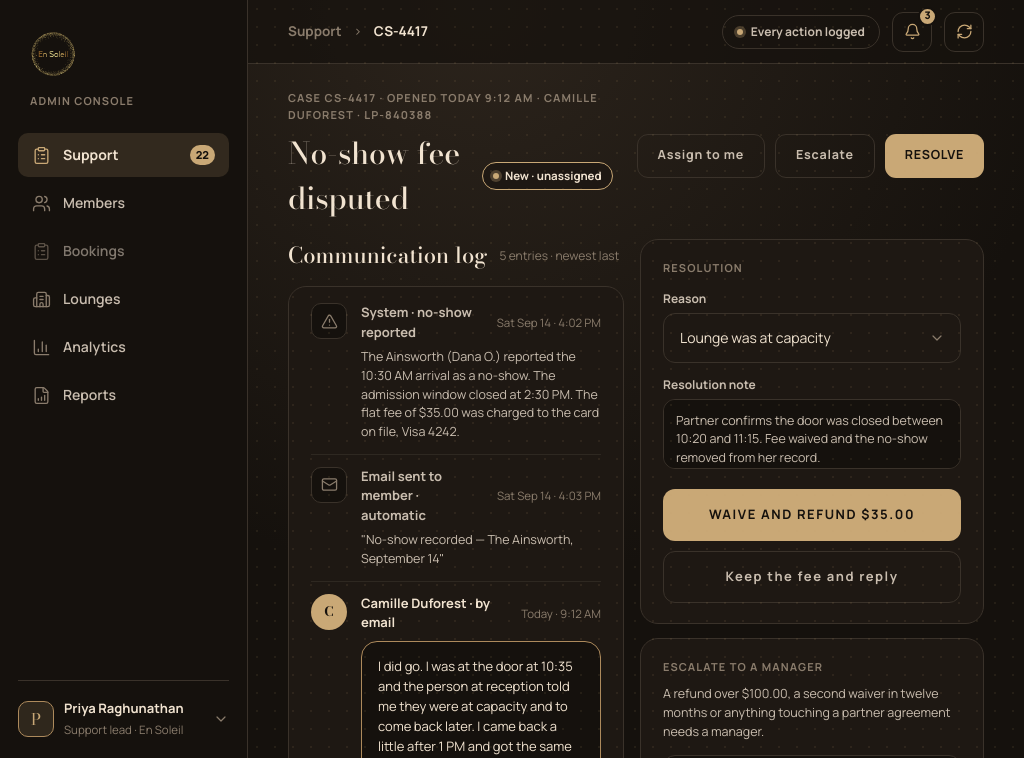
it: Case detail (/admin/support/[id]) › escalates the case to the duty manager
This screenshot has width=1024, height=758.
Click the button "Escalate".
click(825, 156)  # box [775,134,875,178]
(page scrolled)
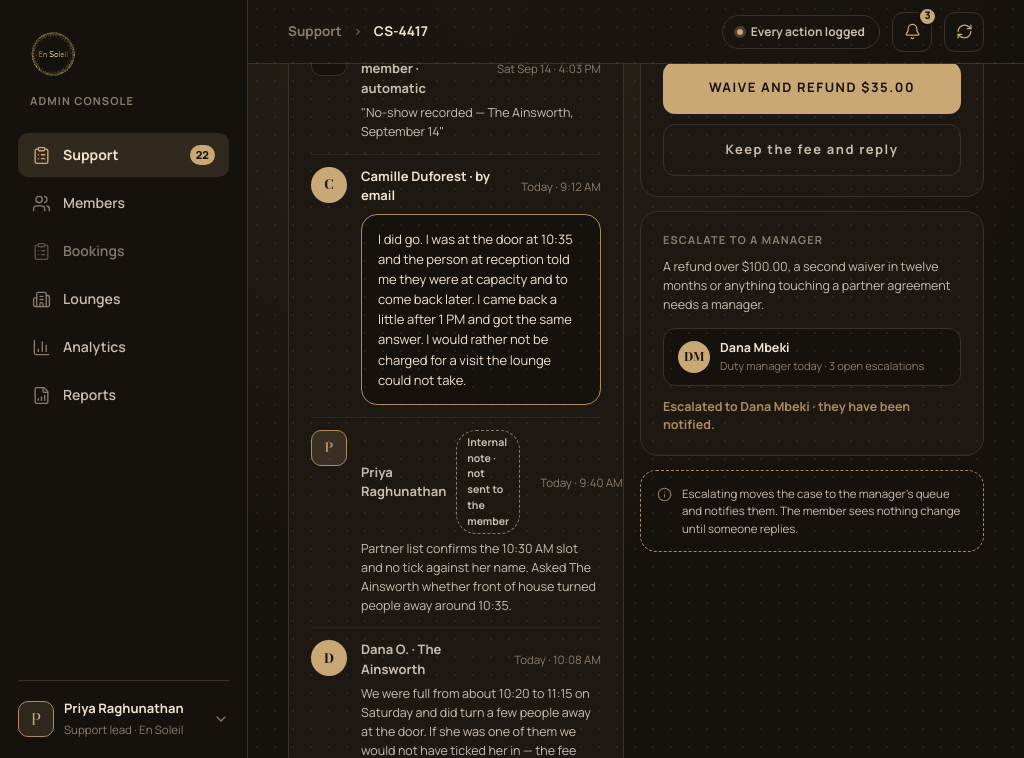
Check: the text "Escalated to Dana Mbeki · they have been notified." is shown, box [663,398,910,433]
